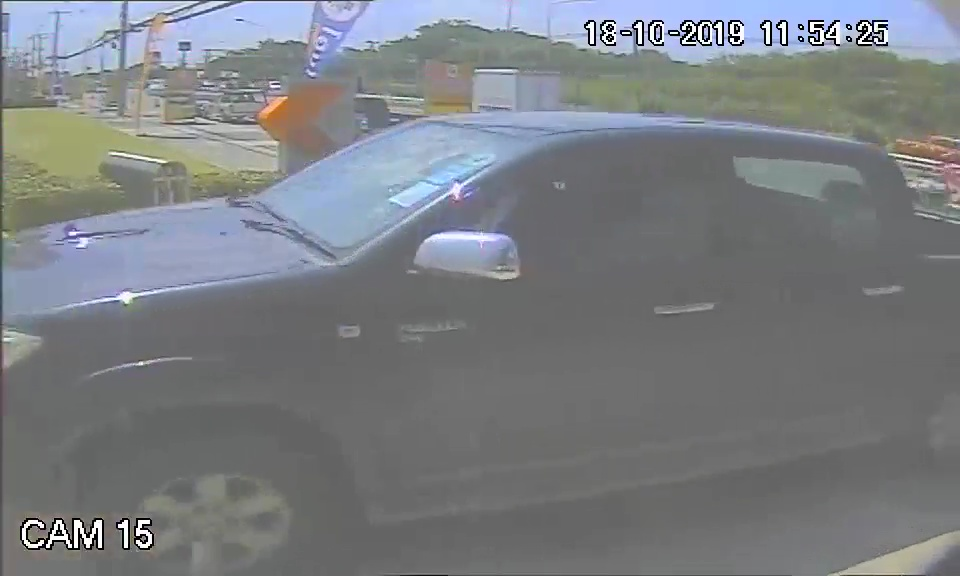pickup: (6, 107, 924, 549)
